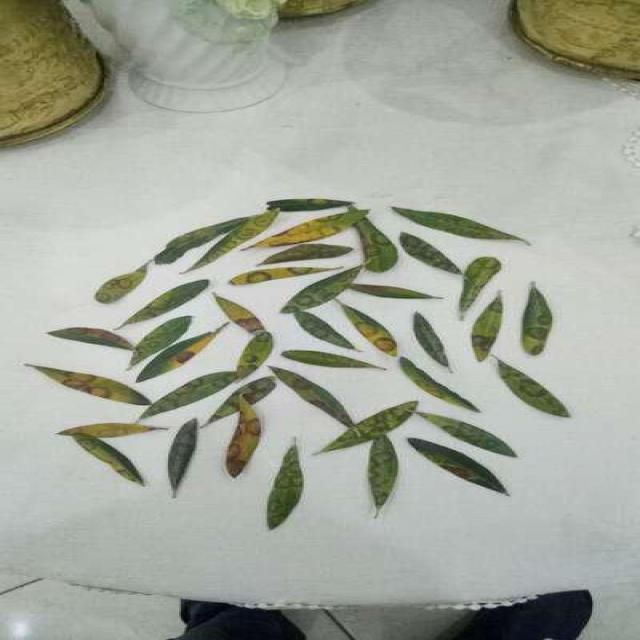OlivePeacockSpot: (185, 210, 278, 272), (408, 438, 507, 494), (28, 364, 150, 406), (270, 368, 354, 428), (395, 207, 528, 244), (320, 402, 416, 452), (248, 212, 368, 250), (136, 328, 221, 381), (142, 372, 236, 418), (120, 280, 208, 328), (400, 358, 477, 412), (418, 411, 506, 452), (76, 436, 142, 484), (130, 316, 190, 366), (341, 302, 395, 356), (498, 360, 556, 410), (226, 395, 260, 477), (268, 456, 302, 528), (400, 234, 459, 275), (228, 266, 341, 286), (167, 419, 196, 496), (461, 258, 499, 316), (522, 286, 552, 356), (358, 218, 396, 273), (366, 443, 396, 512), (48, 327, 133, 350), (282, 284, 351, 312), (296, 314, 352, 348), (57, 423, 166, 438), (236, 331, 270, 378), (94, 279, 142, 303), (472, 326, 499, 361)
